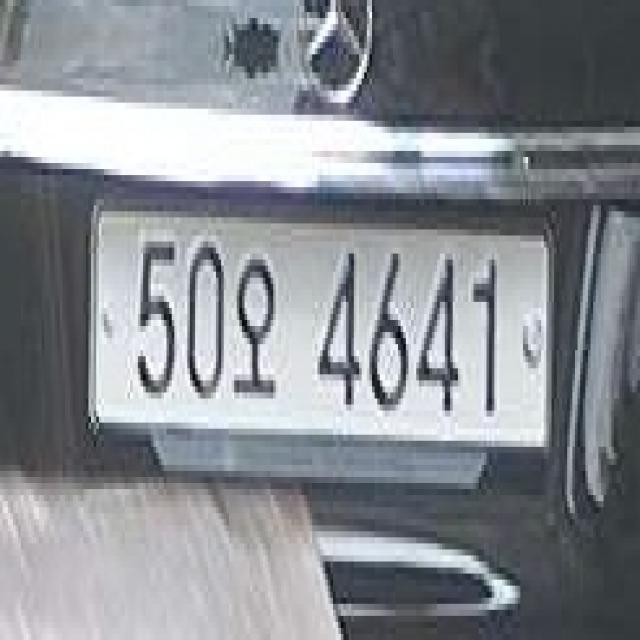0: (186, 226, 228, 417)
1: (468, 243, 501, 424)
4: (313, 235, 362, 422), (417, 243, 460, 420)
5: (128, 223, 180, 403)
6: (368, 232, 408, 421)
license_plate: (83, 193, 572, 466)
o: (229, 234, 285, 412)
